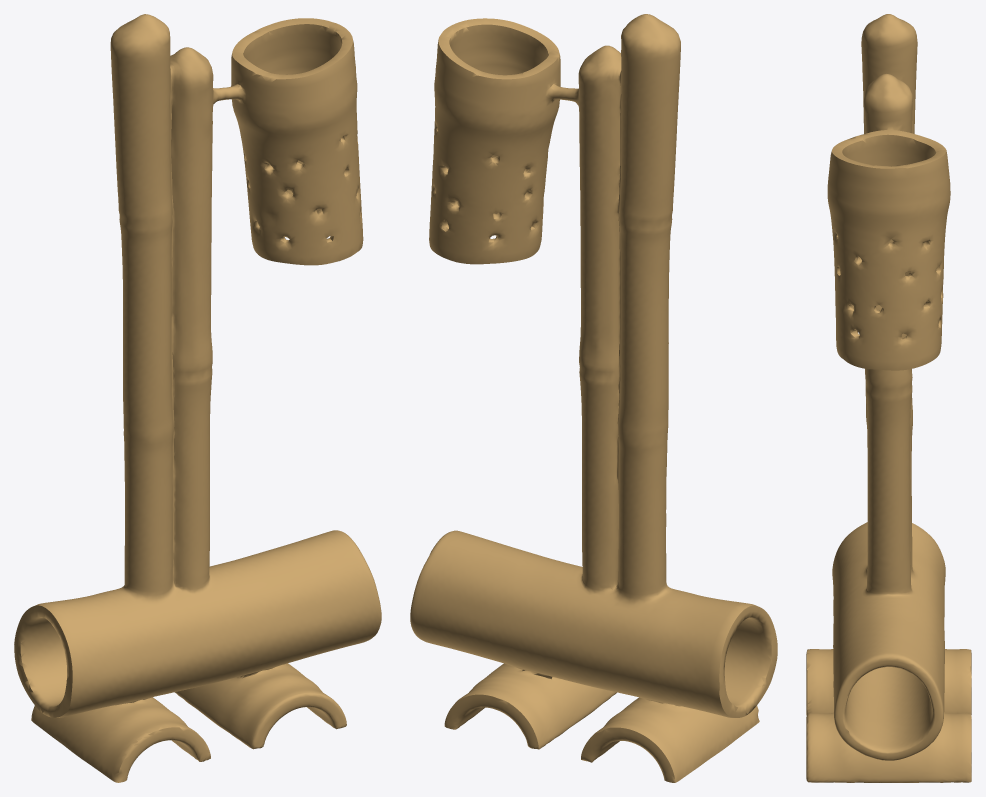
File: bamboo-sentinel.glb
The picture shows the model from 3 angles, left to right: view 1: azimuth 30°, elevation 25°; view 2: azimuth 150°, elevation 25°; view 3: azimuth 270°, elevation 25°; orthographic projection. The views are drawn at different scales.
Parts seen in each view (by area): view 1: bamboo-sentinel; view 2: bamboo-sentinel; view 3: bamboo-sentinel.
Part boxes in pixels (bbox=[...]): bamboo-sentinel: bbox=[14, 14, 381, 782]; bamboo-sentinel: bbox=[410, 14, 777, 782]; bamboo-sentinel: bbox=[806, 14, 971, 782].
Size of the model in its own units: 0.1909 by 0.42 by 0.0909.
